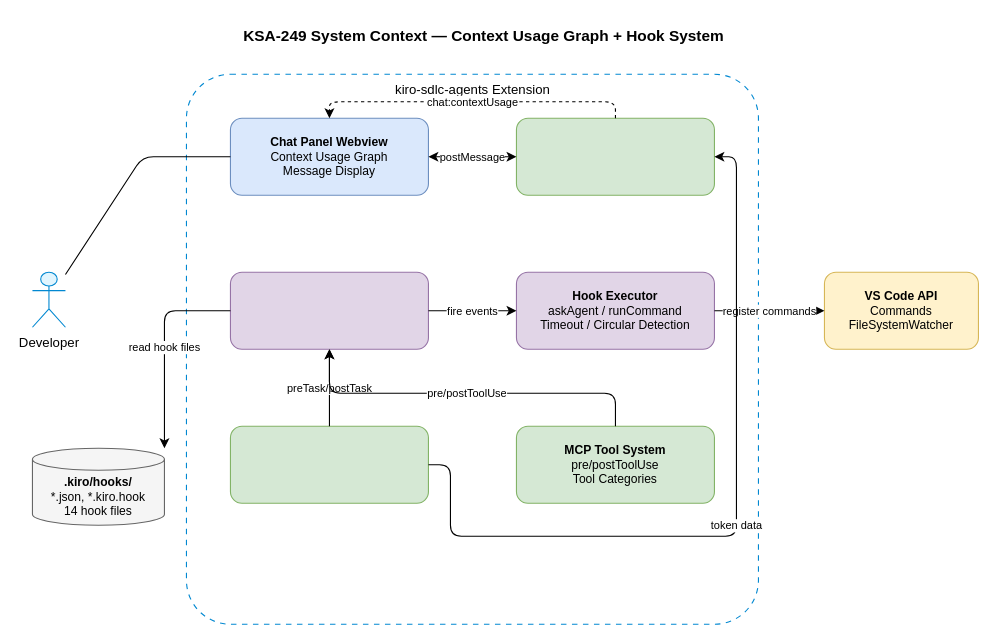
Some shapes in this 998 by 644 pixel diagram are drawn without their labels. The shapes that lost their labels are listed below. From the top down, each one's centre as x and y in pixels, then its label:
At (x=614, y=156): "Extension Host ChatPanelProvider Token Calculator".
At (x=328, y=310): "Hook Loader Load / Validate / Fire Schema Validation".
At (x=328, y=464): "LangGraph Pipeline Node Execution pre/postTask Events".
